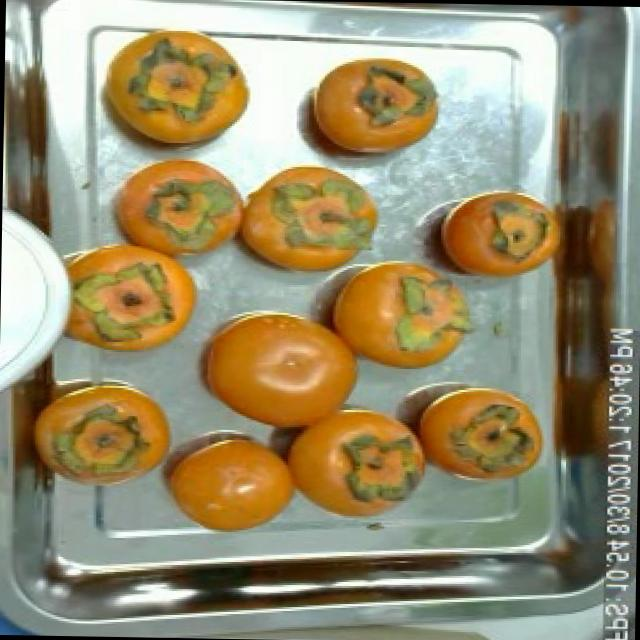Fruit: (166, 289, 380, 445), (36, 219, 215, 368), (11, 364, 188, 500), (77, 34, 263, 163), (143, 413, 311, 540), (285, 51, 451, 170), (222, 148, 395, 260), (399, 373, 555, 492), (415, 180, 563, 292)
